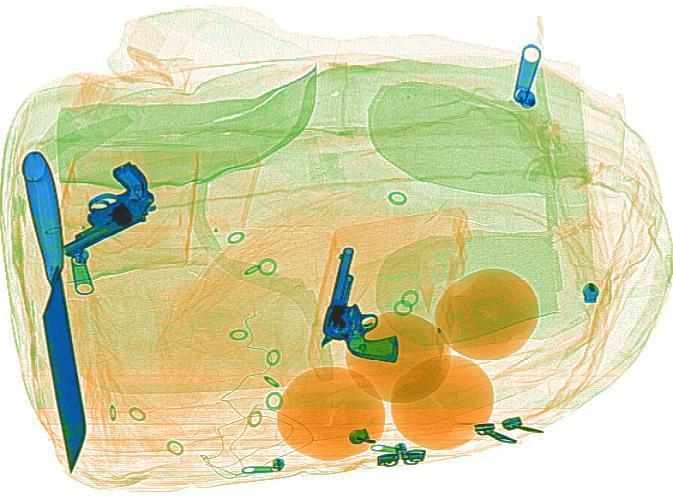Gun: (21, 158, 178, 256), (311, 245, 422, 362)
Knife: (18, 149, 91, 473)
